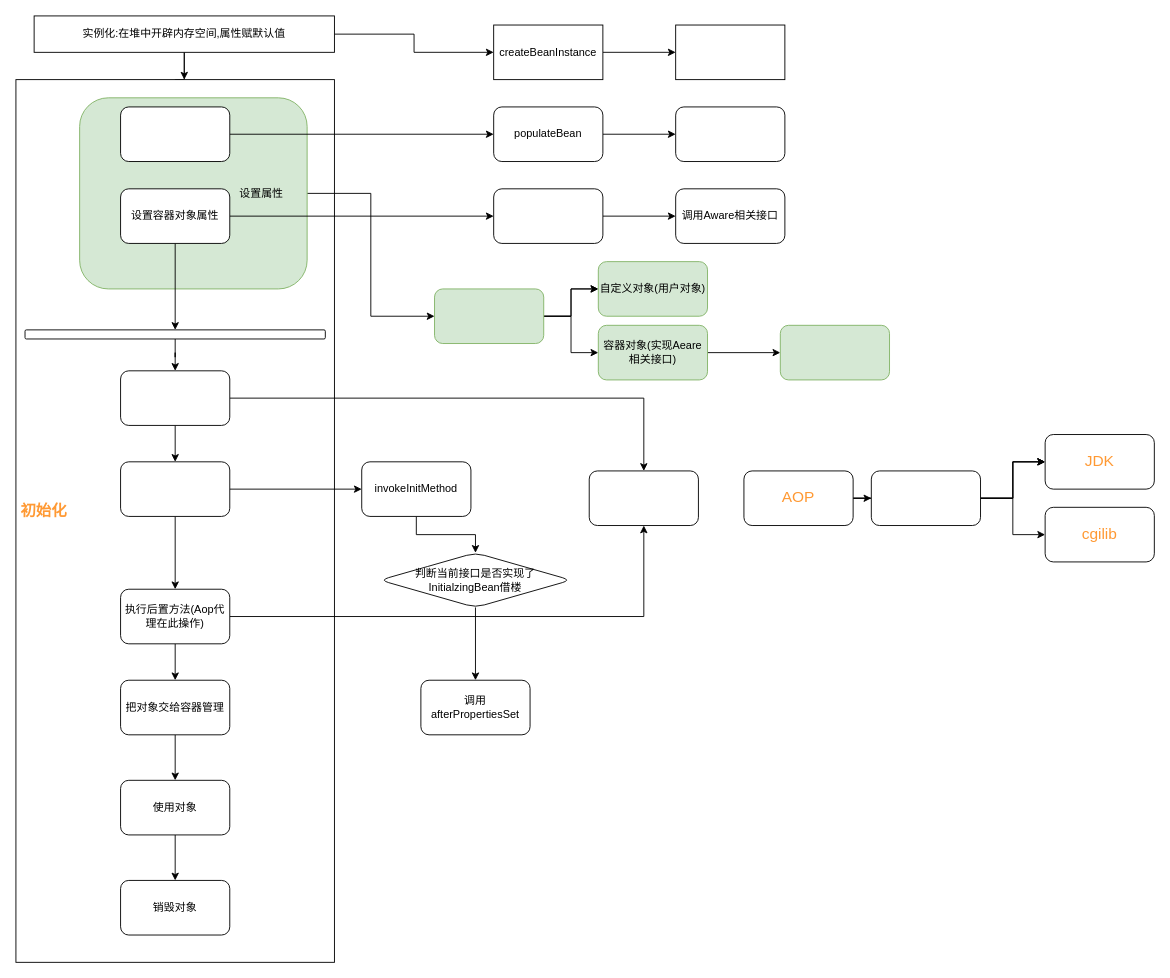
Image size: 1170x978. Some labels were removed from this diagram. Each missing label, with the centre of its shape:
"BeanFactory applicationContext Enviroment ResourceLoder" goes at point (834, 352).
"BeanPostProcessor" goes at point (643, 498).
"invokeAwareMethod" goes at point (548, 215).
"动态代理" goes at point (925, 498).
"反射" goes at point (730, 52).
"对象按照使用者来分" goes at point (489, 316).
"执行前置方法" goes at point (175, 397).
"设置用户自定义属性" goes at point (175, 134).
"调用set方法赋值" goes at point (730, 134).
"调用初始化方法" goes at point (175, 488).
